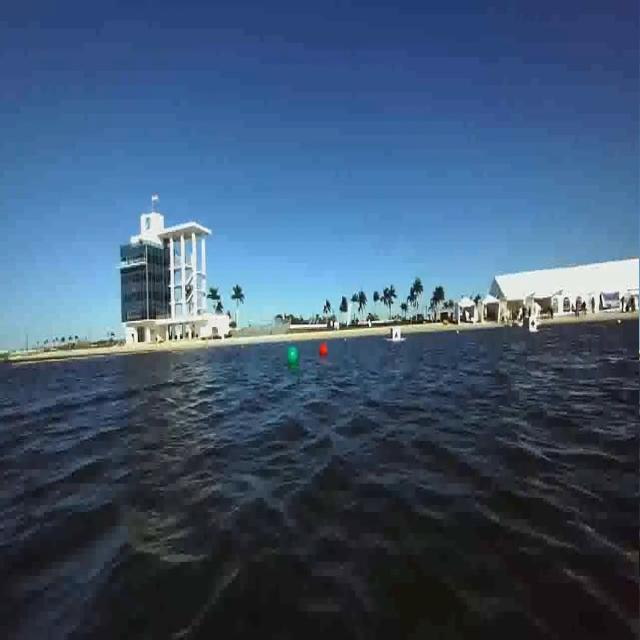green-buoy: (286, 346, 300, 368)
red-buoy: (320, 344, 328, 357)
